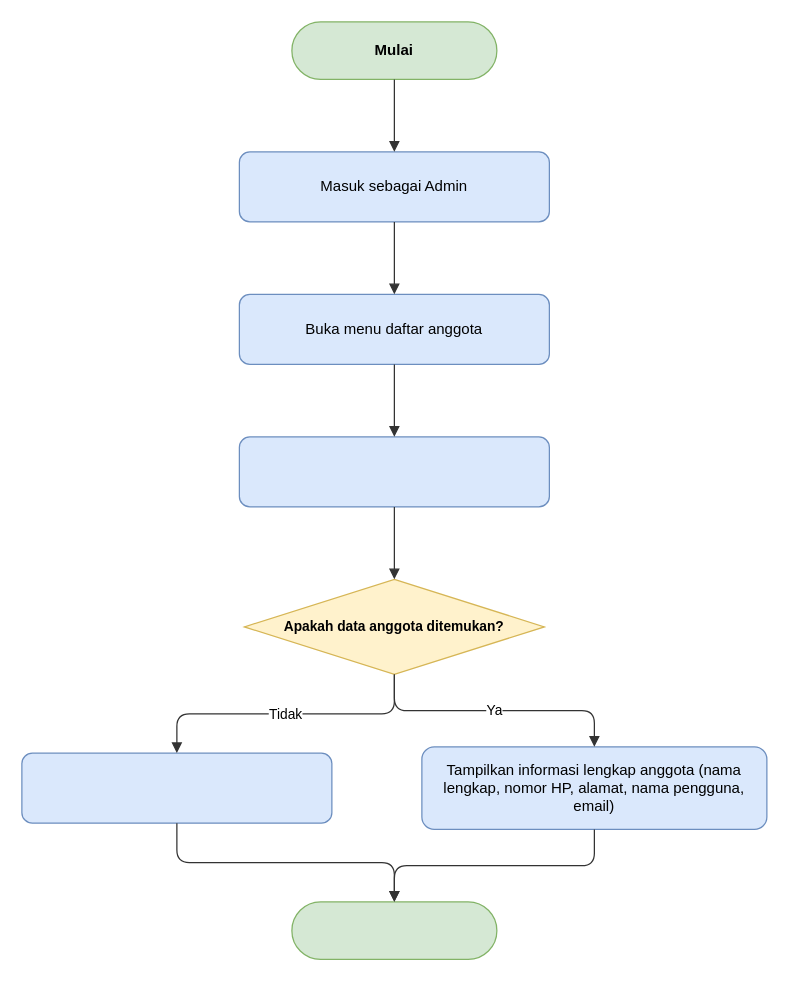
Image size: 789x981. Some labels were removed from this diagram. Here are the shapes that lost their labels. From the top down, the centre of each, then its label:
At (393,471): "Cari dan pilih anggota yang ingin dilihat".
At (176,787): "Tampilkan pesan anggota tidak ditemukan".
At (394,930): "Selesai".
